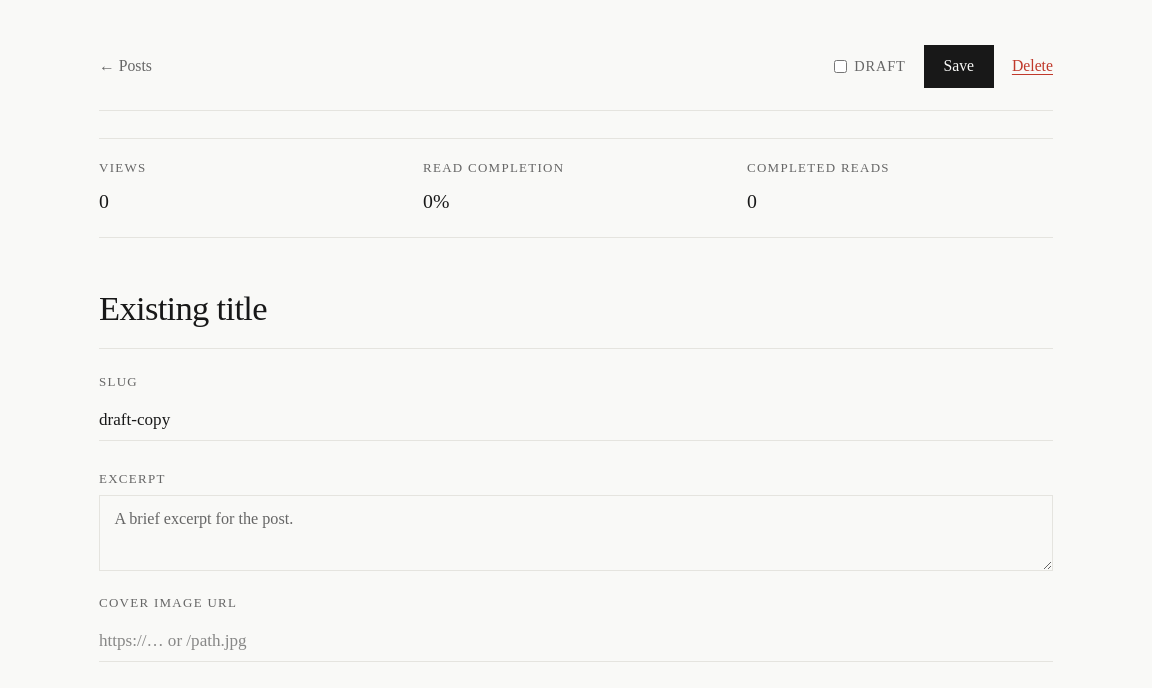
PostEditView slug interactions › normalizes edit slugs and includes excludeId in availability checks
Replace the text in the field with class "field-input" showing "Slug" with "Taken-Slug" at (576, 420), box left=99, top=398, right=1053, bottom=441
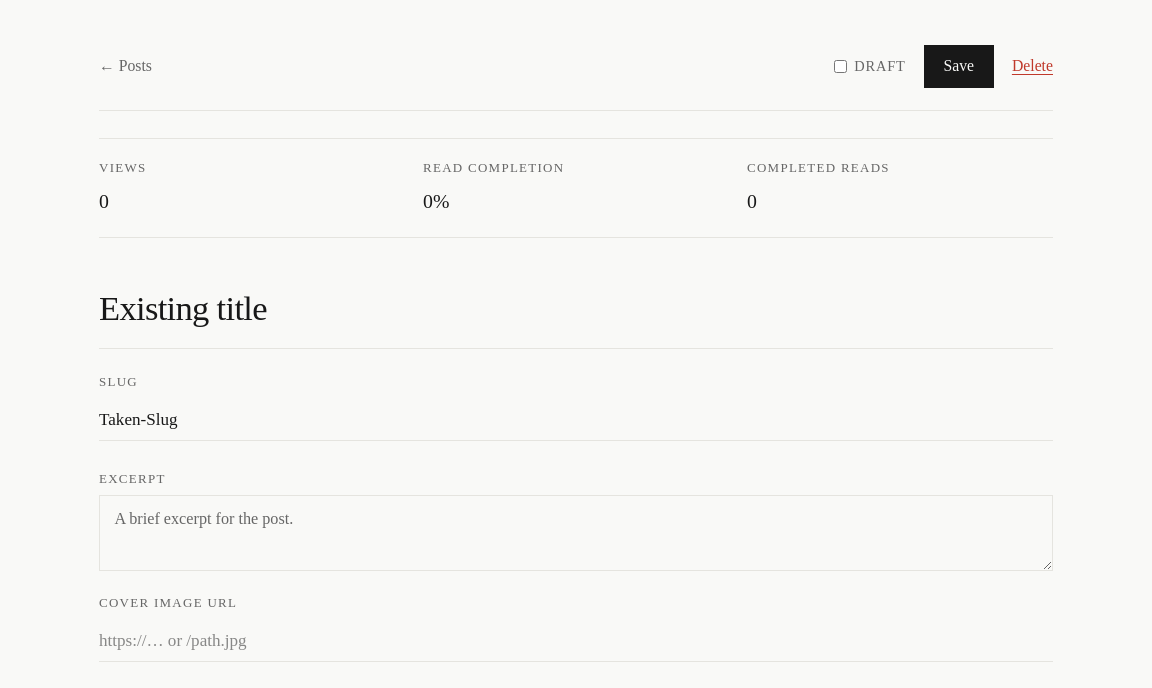
Leave the field with class "field-input" showing "Slug", box left=99, top=398, right=1053, bottom=441
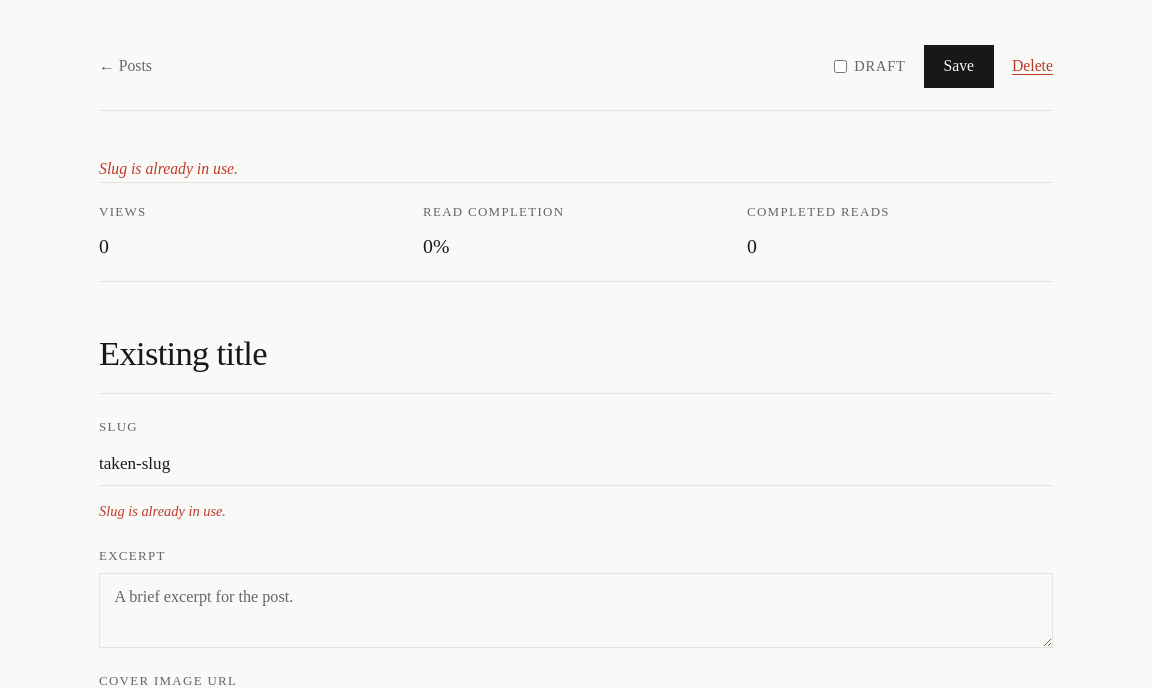
Result: the text "Slug is already in use." is shown at left=99, top=160, right=238, bottom=176
